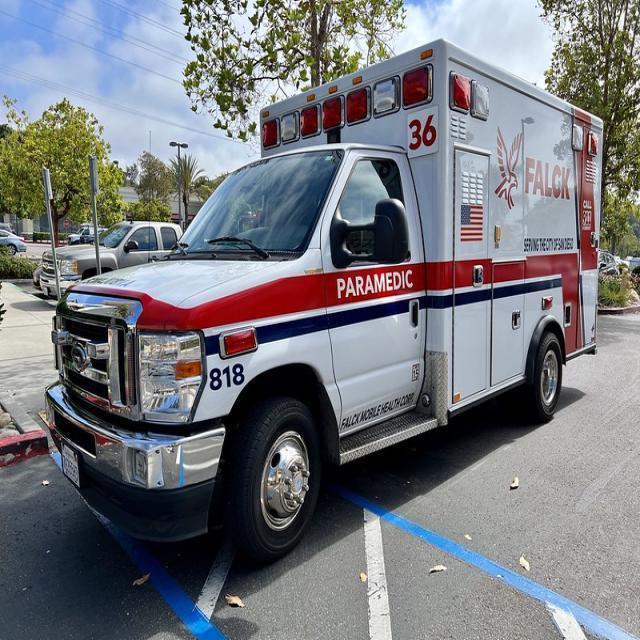emergency: (48, 36, 440, 572)
